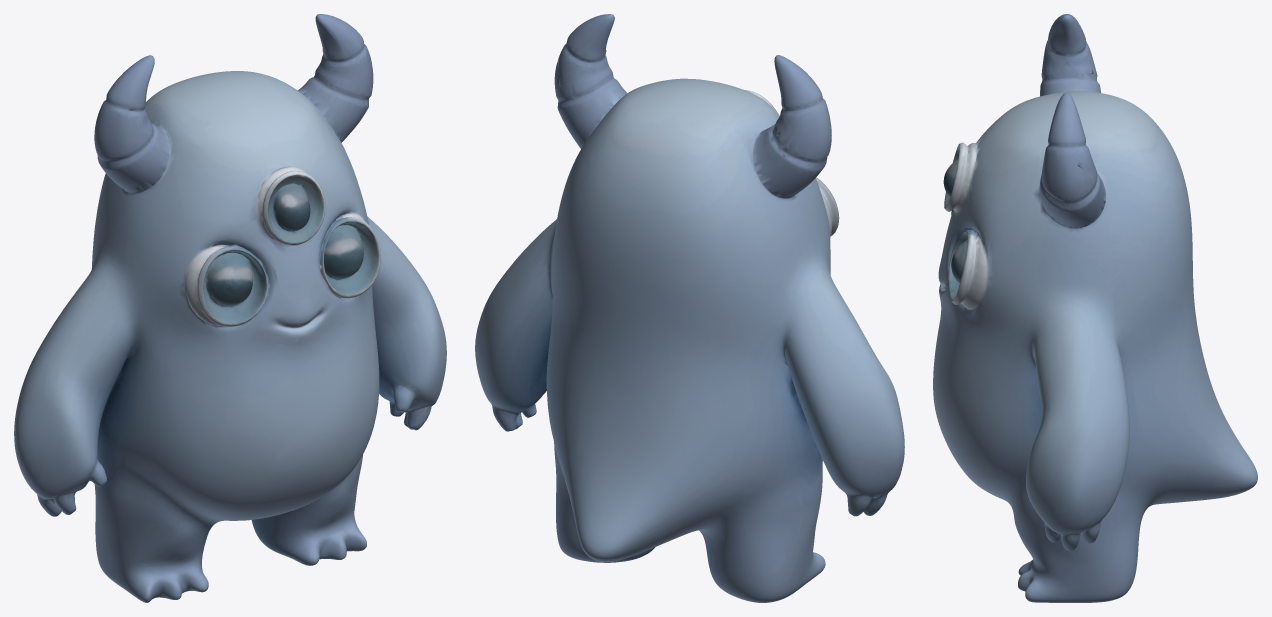
Rendered from stage_4.glb.
The picture shows the model from 3 angles, left to right: view 1: azimuth 30°, elevation 25°; view 2: azimuth 150°, elevation 25°; view 3: azimuth 270°, elevation 25°; orthographic projection. The views are drawn at different scales.
Visible parts, largest first — view 1: convert; view 2: convert; view 3: convert.
Part boxes in pixels (<box>): convert: <box>14,14,446,602</box>; convert: <box>475,14,904,602</box>; convert: <box>933,14,1257,602</box>.
Size of the model in its own units: 0.9121 by 1.08 by 0.639.
1 material, 1 textured.
